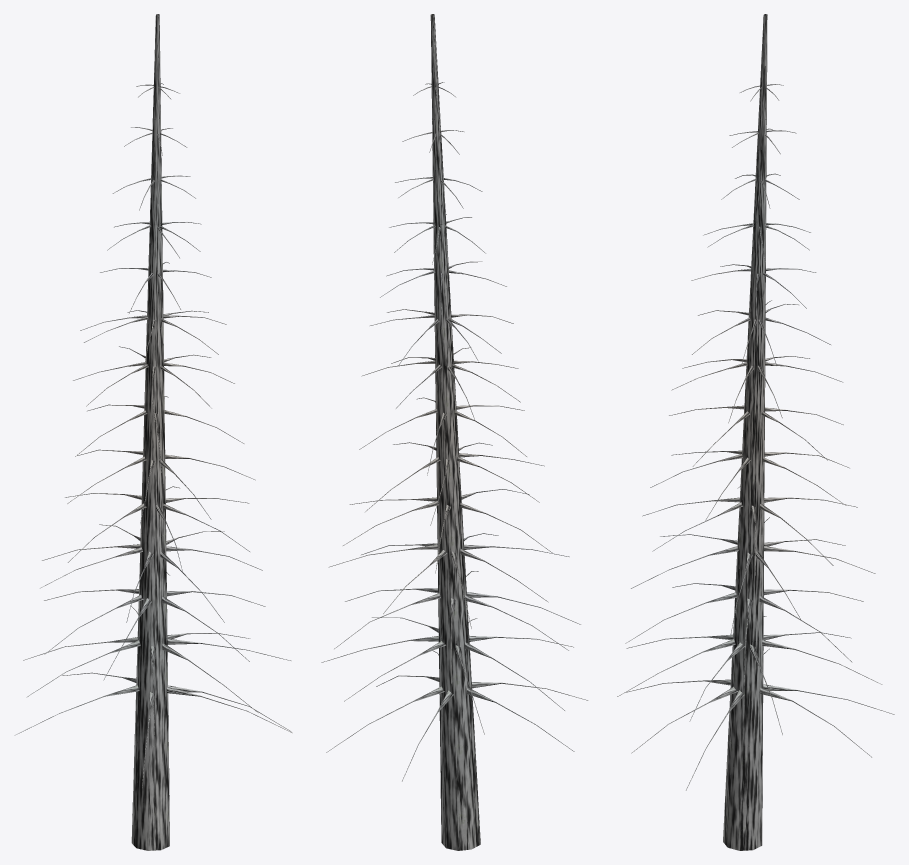
File: fir_slim_bark_l0.gltf
3 views of the same model, side by side, from view 1: azimuth 30°, elevation 25°; view 2: azimuth 150°, elevation 25°; view 3: azimuth 270°, elevation 25° (orthographic). The views are drawn at different scales.
Parts seen in each view (by area): view 1: fir_slim_bark_l0; view 2: fir_slim_bark_l0; view 3: fir_slim_bark_l0.
Part boxes in pixels (x1,y1,x2,y2): fir_slim_bark_l0: (14, 14, 292, 850); fir_slim_bark_l0: (321, 14, 588, 850); fir_slim_bark_l0: (617, 14, 894, 850).
Size of the model in its own units: 4.66 by 15.01 by 4.52.
Materials: 1 (1 with a texture image).
